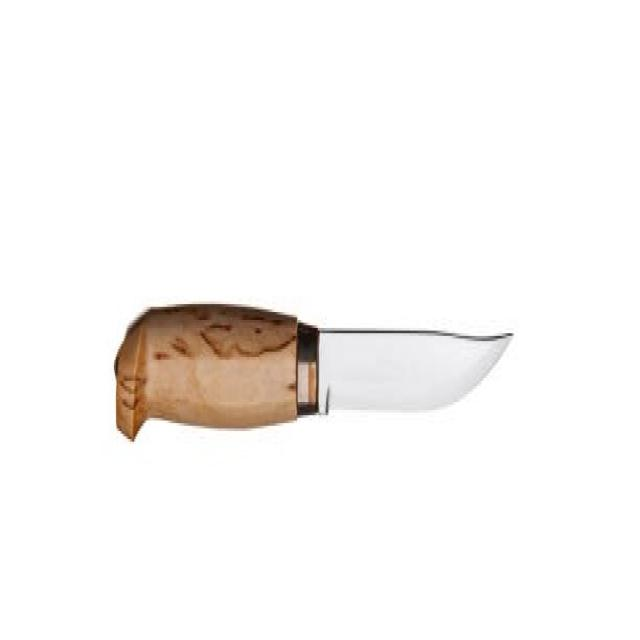knife: (109, 300, 519, 464)
